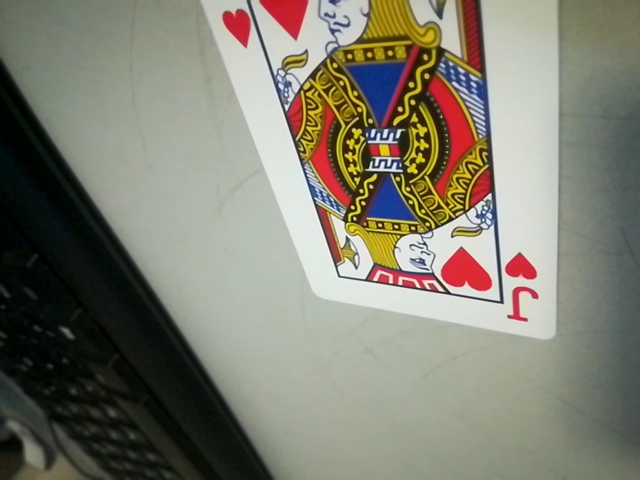hx j: (493, 248, 552, 327)
